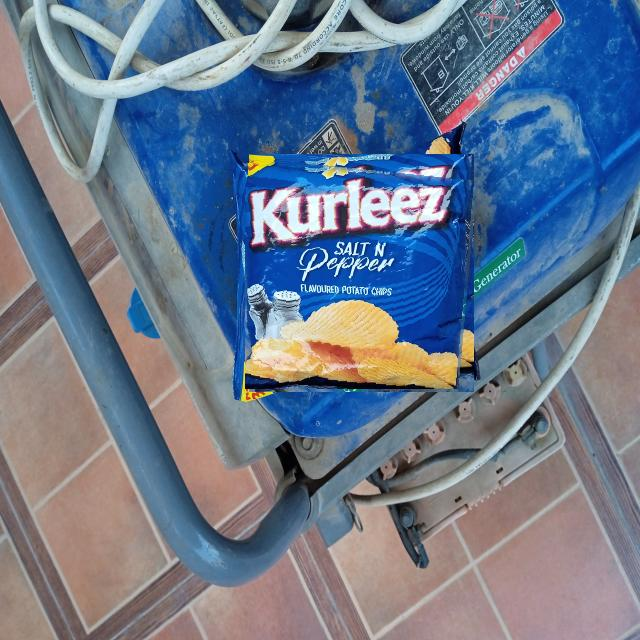Plastic: (245, 157, 477, 389)
